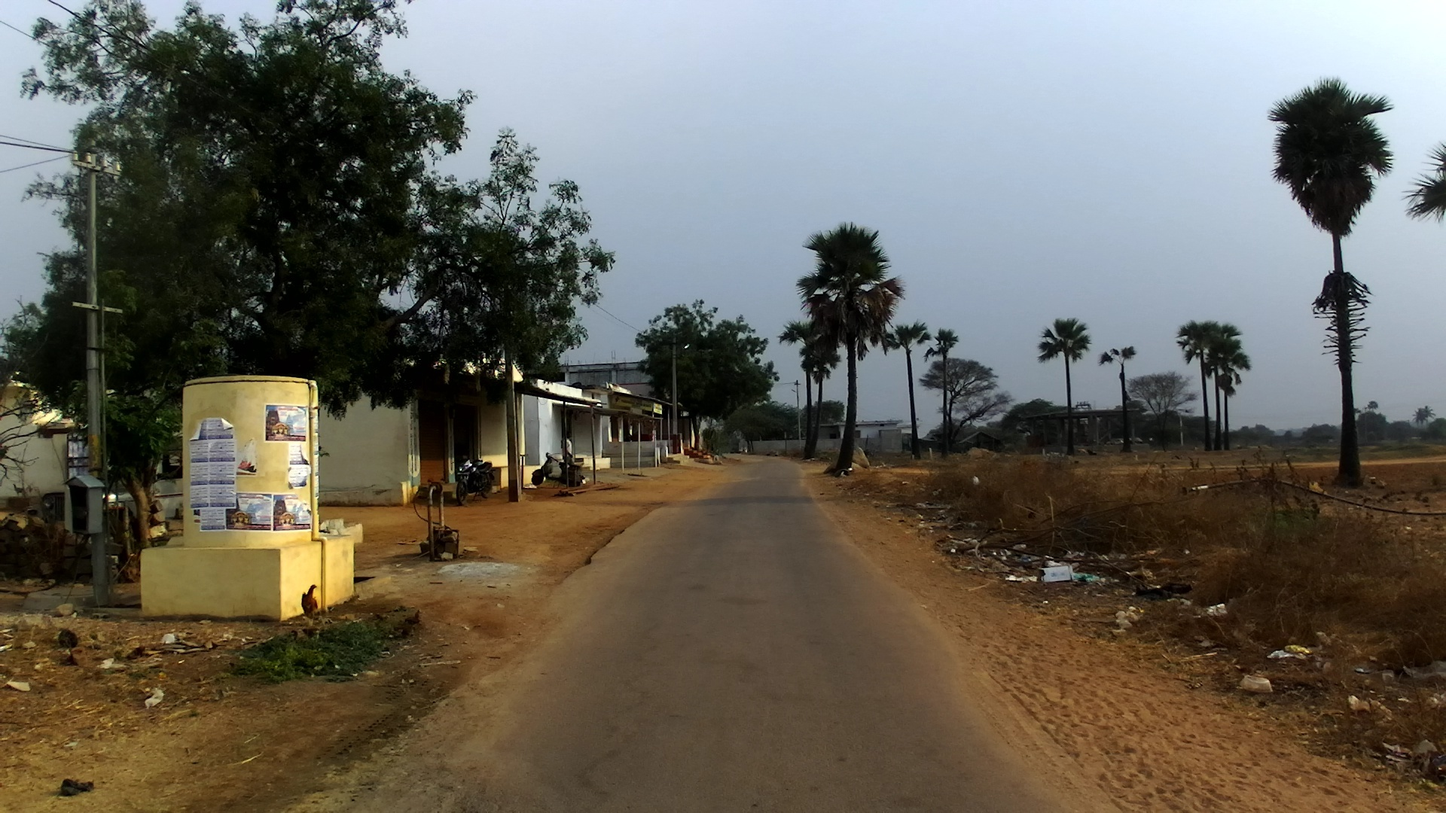animal: (302, 584, 323, 616), (12, 483, 23, 495)
car: (41, 434, 191, 546)
motorcycle: (453, 452, 495, 504), (530, 452, 585, 489)
person: (560, 434, 573, 467)
